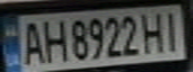2: (103, 12, 124, 60), (121, 11, 142, 57)
8: (66, 16, 90, 62)
9: (87, 15, 106, 61)
A: (18, 17, 48, 66)
H: (39, 16, 69, 64), (139, 9, 169, 55)
I: (157, 8, 184, 52)
